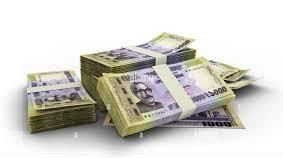1000 tk: (99, 53, 239, 132), (78, 30, 198, 71), (157, 99, 250, 140), (20, 67, 97, 115)
